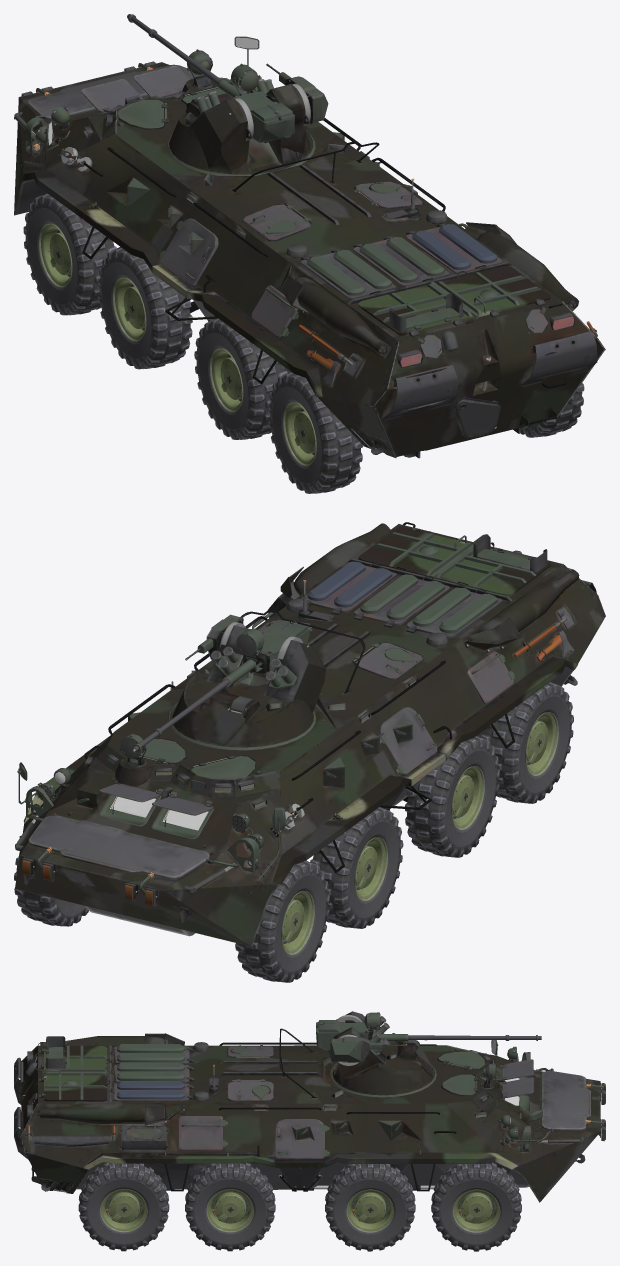
File: btr80.glb
3 views of the same model, one above another, from view 1: azimuth 30°, elevation 25°; view 2: azimuth 150°, elevation 25°; view 3: azimuth 270°, elevation 25° (orthographic). The views are drawn at different scales.
Parts seen in each view (by area): view 1: Object004_BTR 80 Body Green_0, BTR_80_B_Baked002, tire_2L_part, tire_4L_part, tire_1L_part, tire_3L_part, BTR_80_C_Baked002, BTR_80_D_Baked002, wheel_1L_part, wheel_3L_part, wheel_2L_part, wheel_4L_part (+2 smaller); view 2: Object004_BTR 80 Body Green_0, BTR_80_B_Baked002, tire_3L_part, tire_4L_part, tire_2L_part, tire_1L_part, BTR_80_C_Baked002, tire_1R_part, wheel_1L_part, wheel_4L_part, wheel_2L_part, wheel_3L_part (+3 smaller); view 3: Object004_BTR 80 Body Green_0, tire_4R_part, tire_1R_part, tire_3R_part, tire_2R_part, BTR_80_B_Baked002, BTR_80_C_Baked002, wheel_4R_part, wheel_3R_part, wheel_1R_part, wheel_2R_part, BTR_80_D_Baked002 (+1 smaller).
Boxes of the visible parts, x1,y1,x2,y2 form: Object004_BTR 80 Body Green_0: (14, 36, 605, 458); BTR_80_B_Baked002: (169, 79, 310, 174); tire_2L_part: (97, 247, 192, 369); tire_4L_part: (268, 372, 363, 493); tire_1L_part: (23, 193, 116, 315); tire_3L_part: (194, 318, 287, 439); BTR_80_C_Baked002: (230, 63, 328, 143); BTR_80_D_Baked002: (81, 66, 189, 112); wheel_1L_part: (38, 223, 72, 287); wheel_3L_part: (209, 348, 243, 412); wheel_2L_part: (112, 277, 146, 341); wheel_4L_part: (283, 402, 316, 466); Object004_BTR 80 Body Green_0: (15, 522, 605, 946); BTR_80_B_Baked002: (172, 622, 325, 747); tire_3L_part: (405, 736, 499, 857); tire_4L_part: (481, 682, 573, 803); tire_2L_part: (310, 807, 403, 928); tire_1L_part: (235, 861, 329, 982); BTR_80_C_Baked002: (185, 614, 309, 673); tire_1R_part: (14, 851, 88, 926); wheel_1L_part: (281, 891, 314, 954); wheel_4L_part: (525, 712, 558, 775); wheel_2L_part: (354, 837, 387, 900); wheel_3L_part: (451, 766, 484, 829); Object004_BTR 80 Body Green_0: (14, 1028, 605, 1202); tire_4R_part: (78, 1162, 169, 1251); tire_1R_part: (431, 1162, 521, 1251); tire_3R_part: (185, 1163, 275, 1251); tire_2R_part: (325, 1164, 415, 1251); BTR_80_B_Baked002: (328, 1011, 434, 1095); BTR_80_C_Baked002: (316, 1012, 404, 1062); wheel_4R_part: (100, 1189, 147, 1232); wheel_3R_part: (206, 1189, 253, 1232); wheel_1R_part: (453, 1189, 500, 1232); wheel_2R_part: (346, 1189, 393, 1232); BTR_80_D_Baked002: (501, 1059, 533, 1099).
Size of the model in its own units: 2.82 by 2.69 by 7.44.
Materials: 6 (5 with a texture image).
